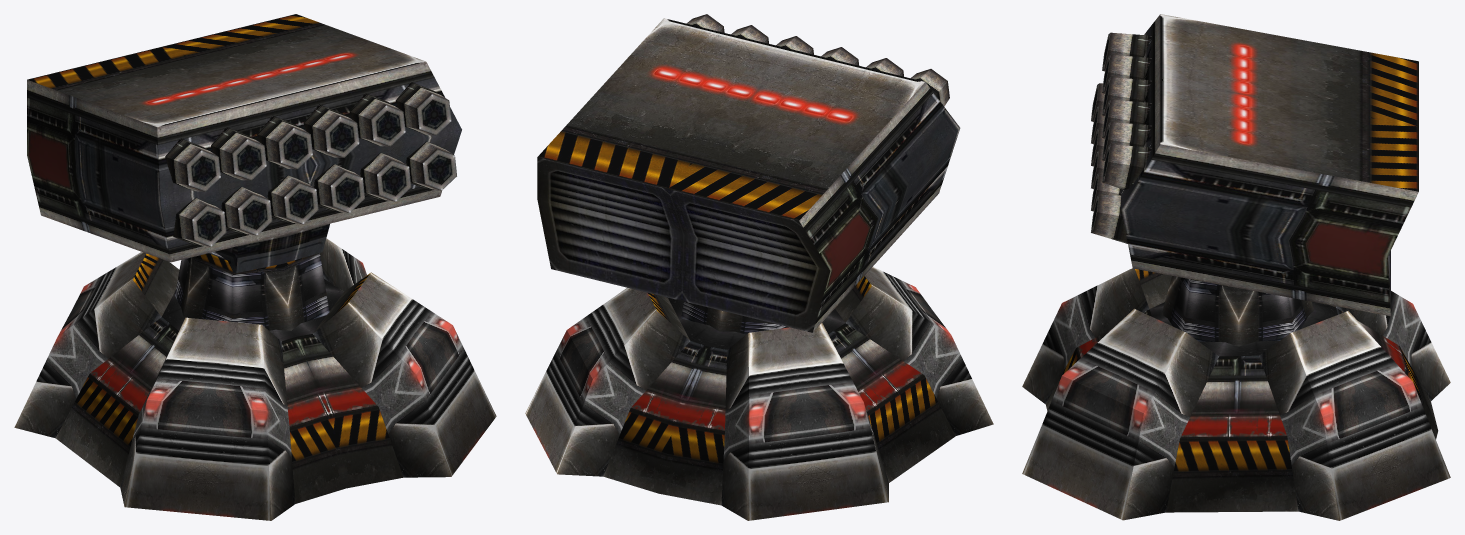
File: r-launcher-01.DAE
3 renders of one model, left to right at view 1: azimuth 30°, elevation 25°; view 2: azimuth 150°, elevation 25°; view 3: azimuth 270°, elevation 25°, orthographic. The views are drawn at different scales.
Visible parts, largest first — view 1: r-launcher-01; view 2: r-launcher-01; view 3: r-launcher-01.
Part boxes in pixels (x1,y1,x2,y2): r-launcher-01: (14,14,496,520); r-launcher-01: (525,14,993,520); r-launcher-01: (1022,14,1450,520).
Bounding box in the file's own units: 4.1 × 4.1 × 3.71.
